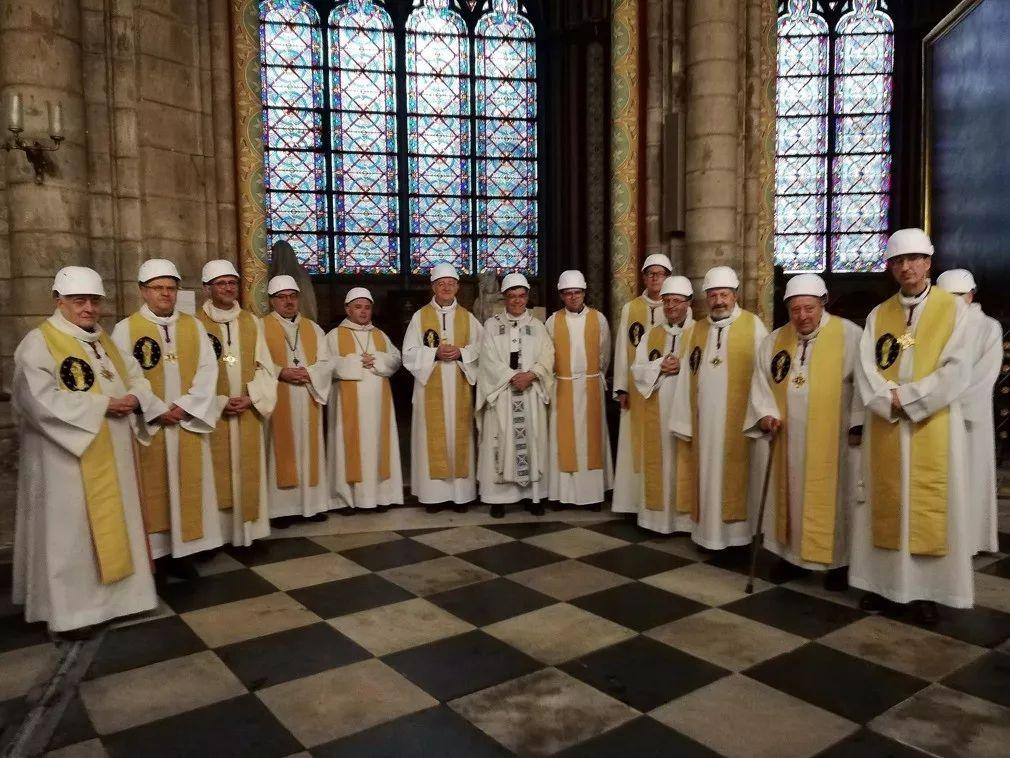helmet: (50, 267, 111, 302), (882, 228, 936, 265), (784, 274, 829, 302), (137, 258, 185, 283), (201, 259, 240, 287), (702, 266, 742, 293), (937, 270, 976, 296), (659, 275, 695, 300), (430, 262, 463, 286), (499, 272, 532, 296), (267, 276, 300, 298), (642, 253, 676, 274), (556, 271, 589, 292), (344, 288, 375, 308)
